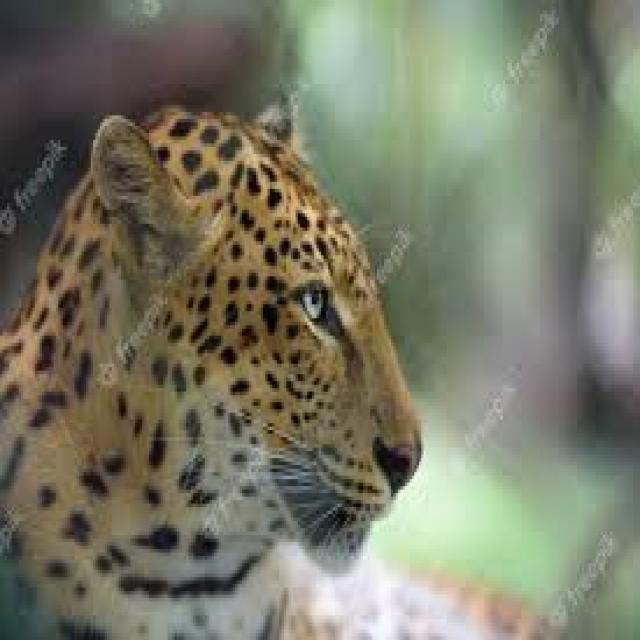Jaguar: (2, 101, 417, 640)
